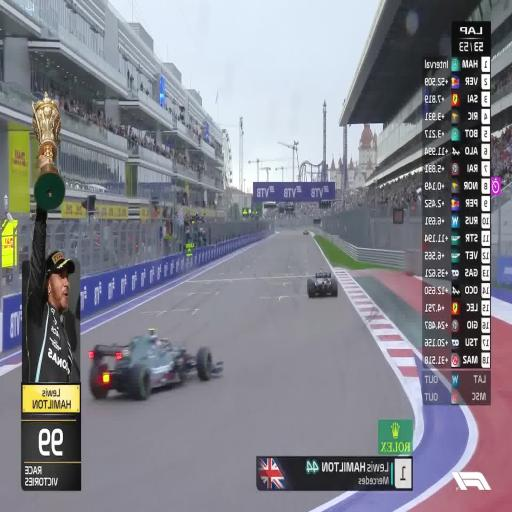f1_car: (89, 329, 223, 399), (308, 272, 338, 297), (303, 229, 309, 234)
